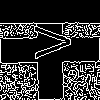V: (25, 25, 71, 59)
